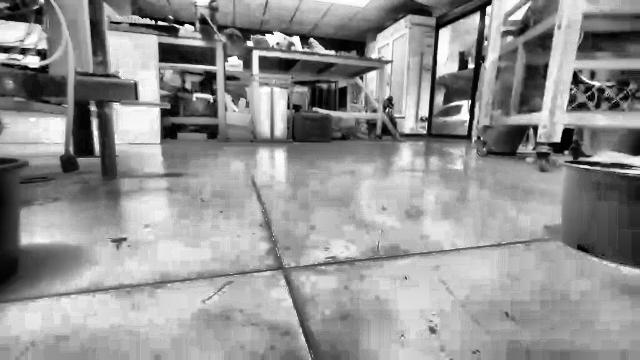pot: (562, 160, 639, 268), (0, 157, 28, 284)
